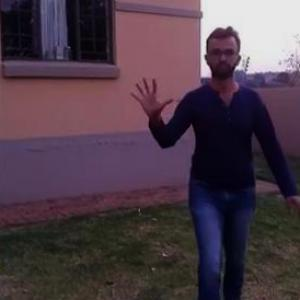follow_hand: (126, 73, 175, 118)
